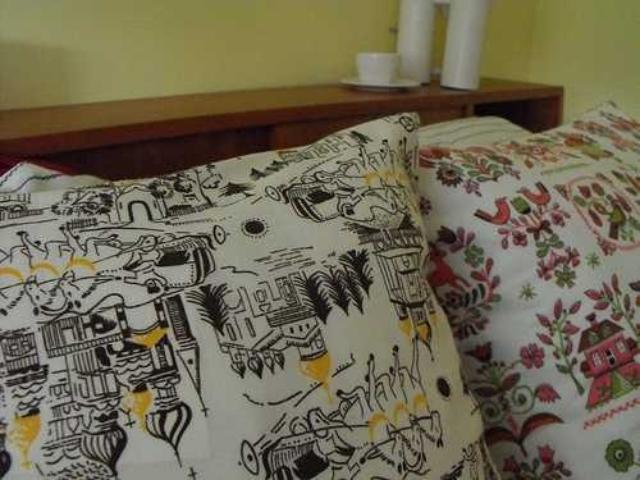pillow: (1, 110, 502, 478)
